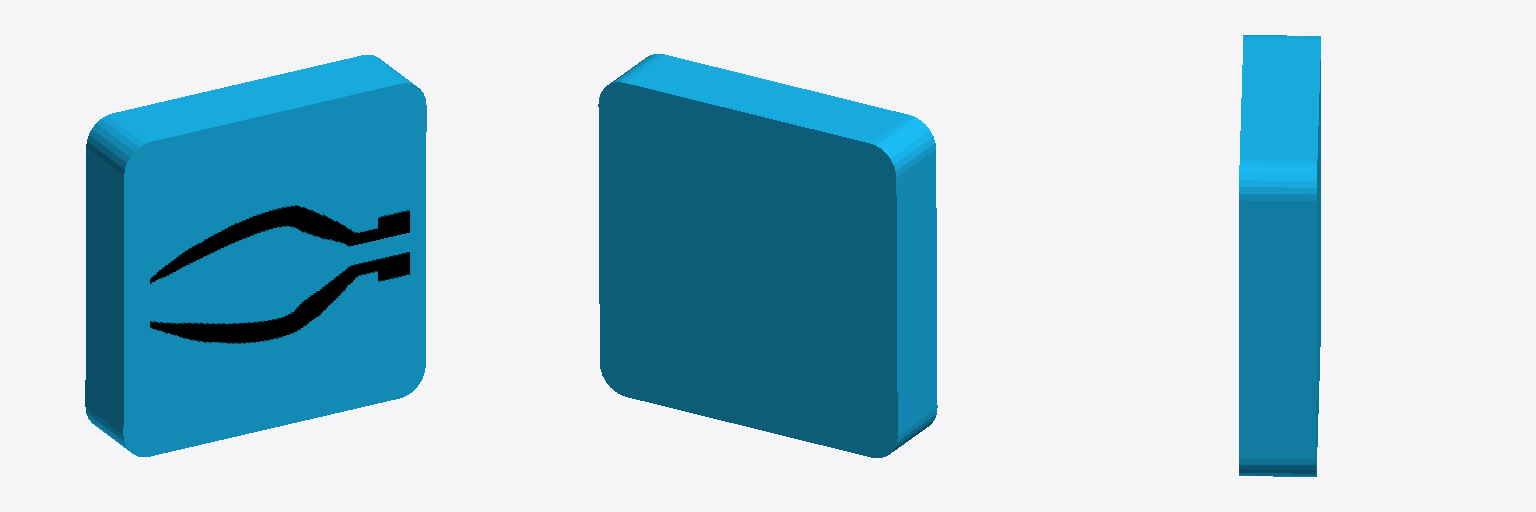
3 views of the same model, side by side, from view 1: azimuth 30°, elevation 25°; view 2: azimuth 150°, elevation 25°; view 3: azimuth 270°, elevation 25° (orthographic).
Bounding box in the file's own units: 5.39 × 5.38 × 1.28.
Materials: 1 (1 with a texture image).